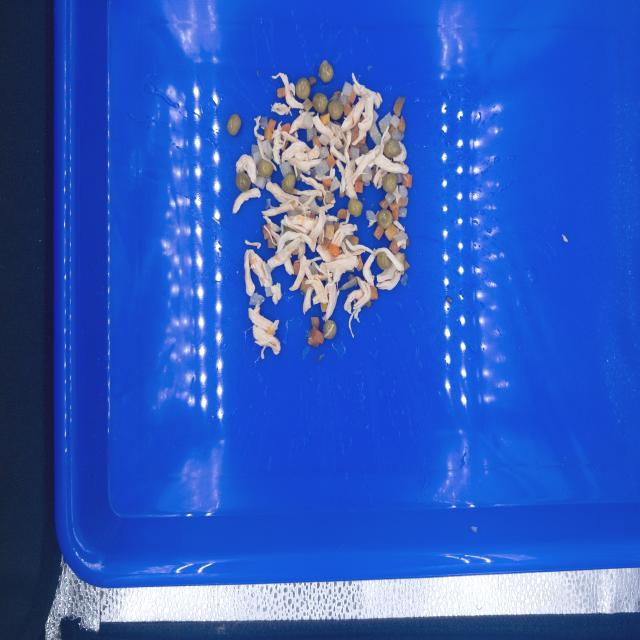Carrot: (307, 317, 324, 348), (389, 198, 408, 220), (264, 119, 276, 143), (393, 98, 405, 116), (385, 224, 398, 240), (389, 238, 399, 254), (262, 224, 271, 240), (329, 244, 340, 257), (326, 155, 336, 169), (402, 174, 412, 188), (374, 226, 384, 240), (398, 116, 406, 133), (300, 278, 309, 293), (322, 179, 332, 191), (320, 113, 330, 125), (343, 103, 352, 116), (312, 136, 321, 148), (293, 261, 300, 276), (337, 209, 347, 219), (379, 199, 389, 209), (282, 123, 291, 134), (350, 91, 357, 105), (355, 181, 363, 193), (371, 287, 378, 300), (277, 87, 285, 98), (267, 237, 275, 248), (357, 255, 363, 269), (350, 236, 359, 244), (321, 303, 328, 312), (404, 260, 410, 270), (359, 137, 366, 145), (334, 223, 339, 234), (389, 125, 395, 134), (401, 253, 405, 265), (292, 249, 298, 255), (348, 149, 351, 158)
Chicken_Shred: (351, 125, 409, 189), (289, 255, 340, 321), (327, 94, 368, 169), (289, 111, 346, 164), (346, 239, 405, 286), (264, 208, 326, 252), (271, 121, 320, 165), (248, 303, 281, 359), (314, 253, 359, 289), (331, 210, 365, 257), (261, 199, 306, 232), (267, 238, 306, 276), (271, 73, 304, 116), (244, 249, 273, 297), (300, 174, 336, 212), (349, 276, 371, 338), (254, 116, 277, 171), (352, 73, 383, 109), (352, 96, 374, 146), (336, 159, 358, 200), (275, 231, 313, 254), (291, 189, 322, 217), (266, 181, 299, 204), (232, 188, 261, 214), (236, 154, 259, 185), (288, 158, 321, 177), (344, 287, 364, 314), (376, 270, 401, 290), (377, 261, 398, 283), (316, 244, 335, 263), (393, 142, 407, 162), (270, 282, 282, 305), (315, 168, 335, 181), (279, 141, 292, 160), (367, 211, 379, 228), (392, 186, 401, 204), (245, 240, 261, 249), (393, 220, 405, 232), (325, 324, 334, 337), (326, 215, 339, 222), (397, 239, 406, 249), (310, 257, 322, 263), (353, 299, 357, 304)
Peas: (319, 60, 334, 82), (377, 209, 393, 229), (227, 114, 241, 136), (384, 139, 400, 158), (235, 173, 251, 192), (383, 173, 398, 193), (328, 100, 343, 120), (296, 78, 310, 99), (313, 93, 327, 113), (348, 199, 363, 217), (323, 320, 336, 340), (258, 160, 273, 177), (282, 174, 295, 193), (377, 253, 391, 270)
Potato_White: (370, 110, 382, 145), (379, 112, 392, 134), (315, 159, 329, 178), (338, 277, 358, 290), (251, 145, 263, 165), (262, 139, 273, 160), (249, 292, 265, 306), (279, 161, 293, 177), (362, 166, 373, 183), (394, 230, 408, 242), (342, 82, 353, 97), (319, 146, 330, 161), (303, 113, 313, 129), (318, 134, 330, 147), (391, 129, 404, 141), (330, 177, 340, 192), (308, 199, 318, 214), (255, 176, 266, 189), (307, 127, 317, 141), (398, 185, 408, 198), (391, 115, 400, 129), (338, 94, 349, 105), (309, 262, 319, 274), (326, 225, 334, 239), (385, 193, 395, 204), (366, 211, 376, 221), (325, 193, 334, 204), (267, 261, 275, 273), (351, 147, 359, 159), (395, 173, 403, 183), (265, 287, 273, 297), (399, 208, 407, 217), (300, 195, 308, 204), (260, 117, 267, 127), (339, 146, 344, 156)
